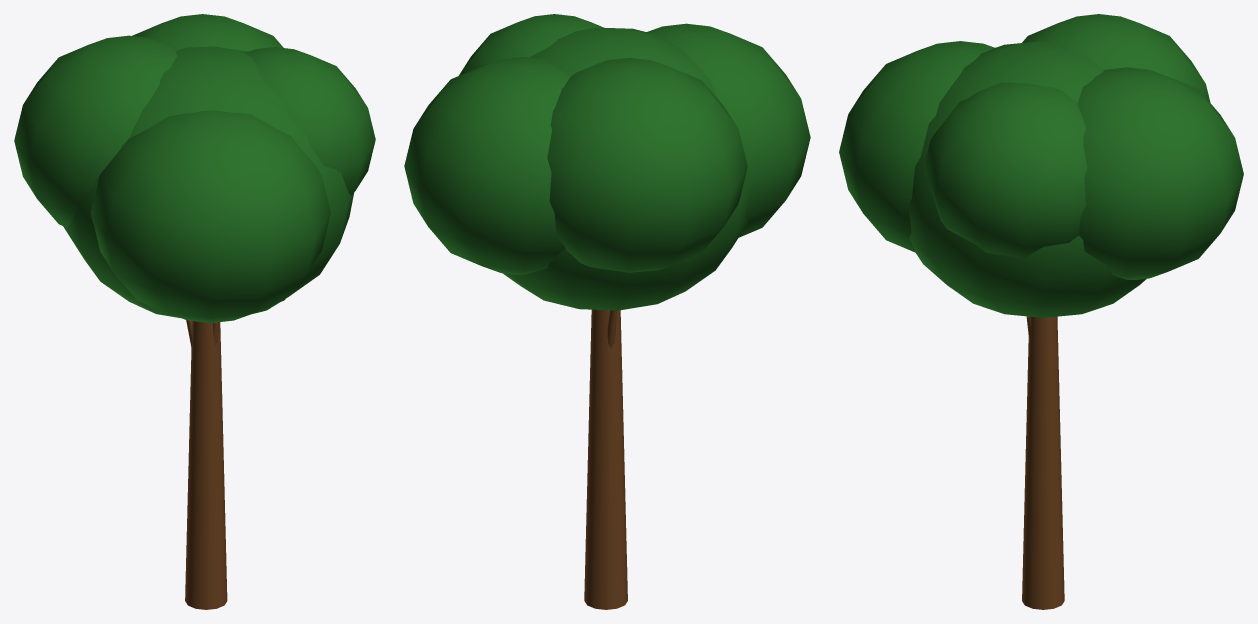
File: arbol_plaza.obj
3 renders of one model, left to right at view 1: azimuth 30°, elevation 25°; view 2: azimuth 150°, elevation 25°; view 3: azimuth 270°, elevation 25°, orthographic. The views are drawn at different scales.
Visible parts, largest first — view 1: Arbol; view 2: Arbol; view 3: Arbol.
Boxes of the visible parts, x1,y1,x2,y2 form: Arbol: (14, 14, 375, 609); Arbol: (404, 14, 810, 609); Arbol: (839, 14, 1243, 609).
Bounding box in the file's own units: 0.4523 × 0.7974 × 0.5311.
